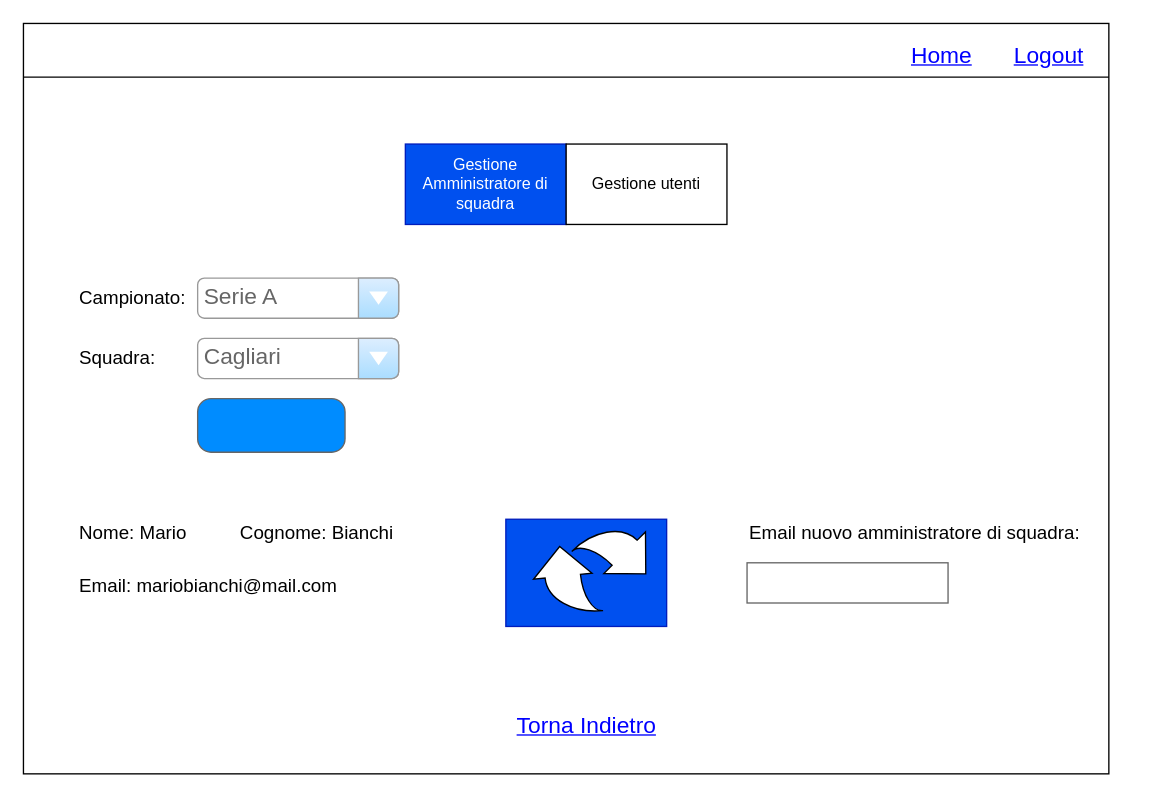
Some shapes in this 1173 by 797 pixel diagram are drawn without their labels. The centre of each missing label's shape, as x and y in pixels:
"Cerca" belongs at pixel 270 424.
"rossi@mail.com" belongs at pixel 847 582.
